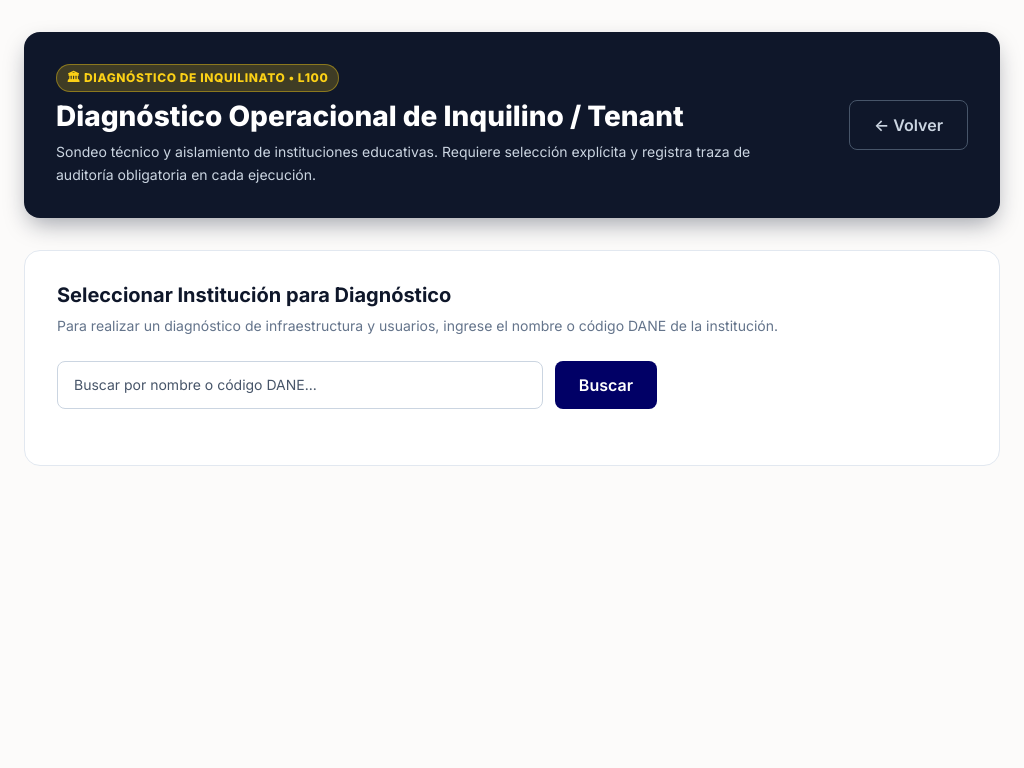
Test case: NTA-10-R8: Tenant Diagnostics DANE & Name Search Verification › 2. Institution-name search remains functional
Type "San Pedro" into the field labelled "Buscar por nombre o código DANE..." at (300, 385), box 57,361 -> 543,409
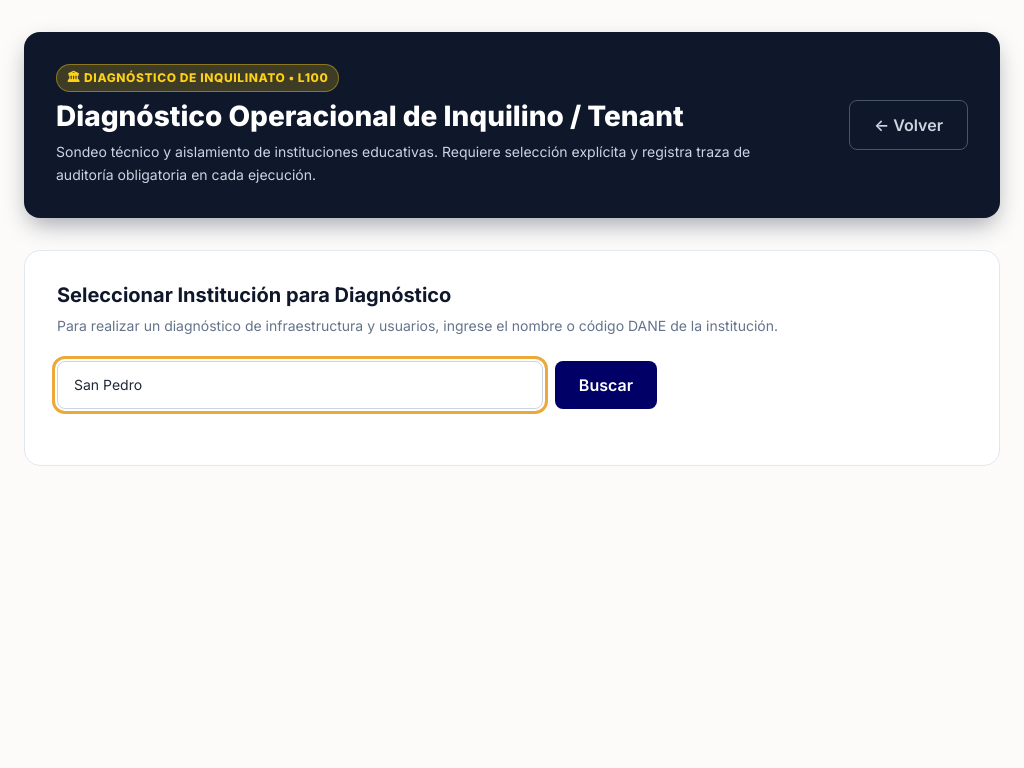
Click the button "Buscar" at (606, 385), box 555,361 -> 657,409
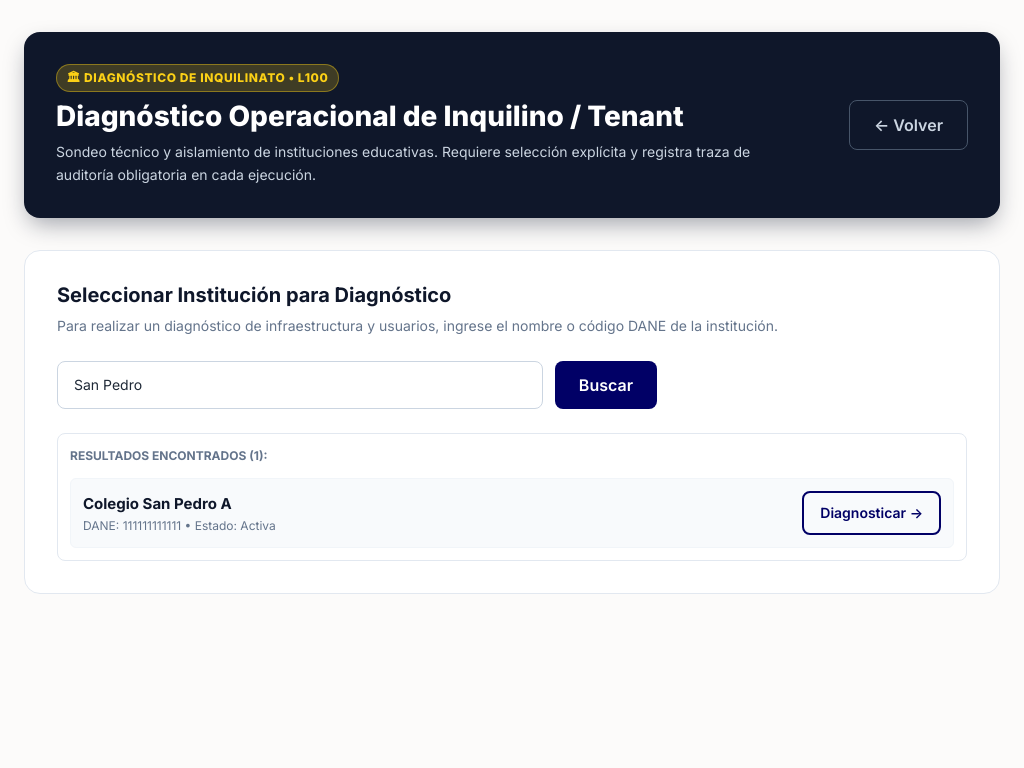
Check: the text "Colegio San Pedro A" is shown, box 83,494 -> 232,512
